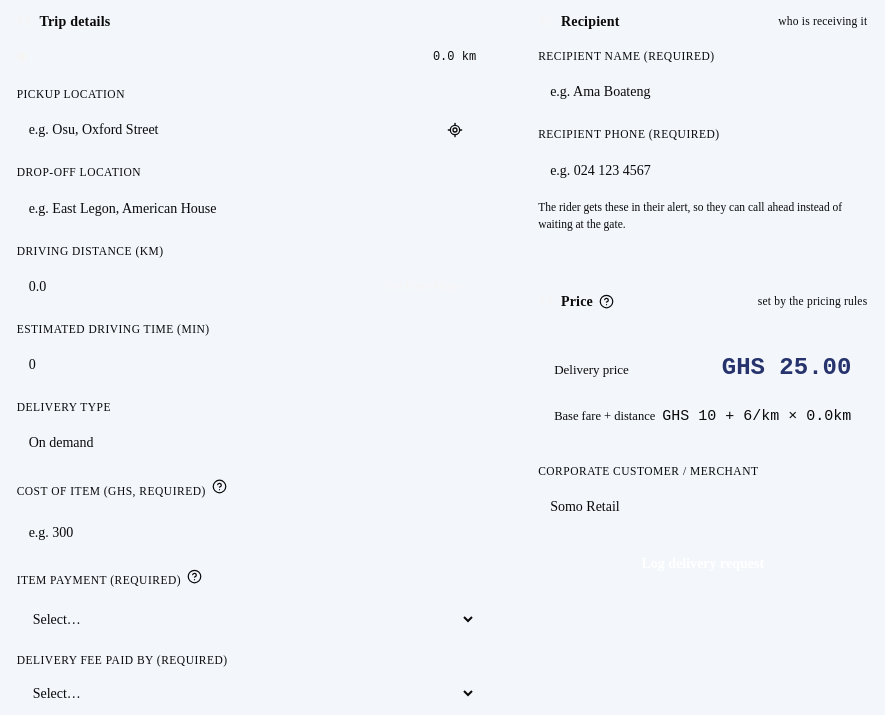
it: pickup location button › takes the nearest named place when no street address came back
Click the button named "Use my current location" at (455, 130), box [435, 110, 475, 149]
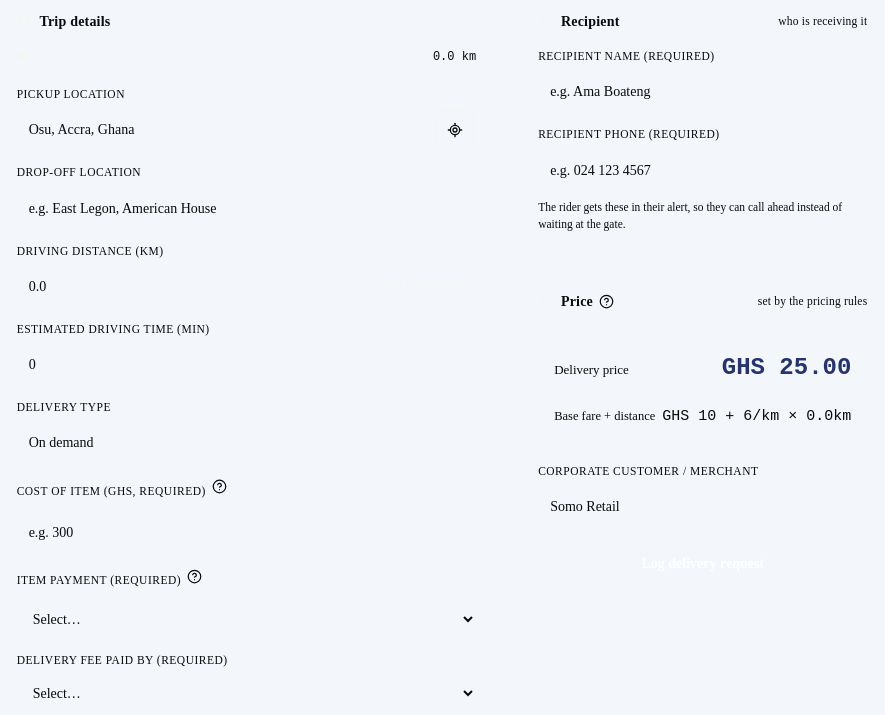
expect the field with placeholder "e.g. Osu, Oxford Street" holds "Osu, Accra, Ghana": met, box [17, 109, 476, 150]
